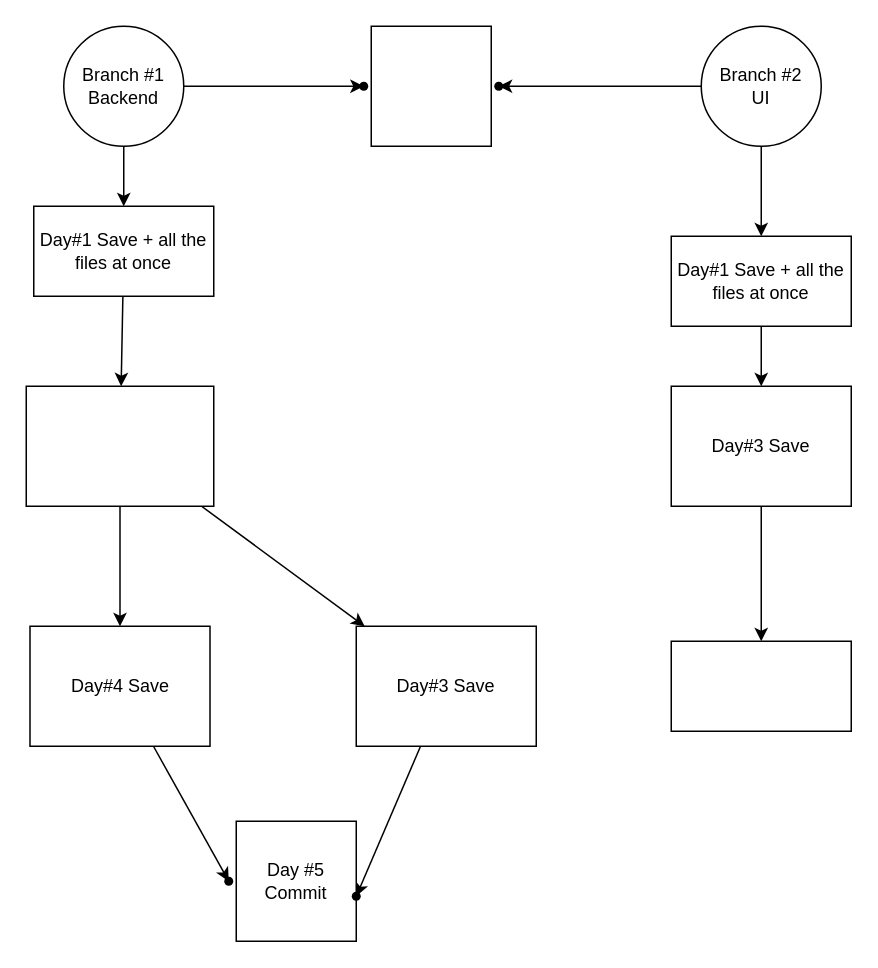
This 878x968 diagram has some shape labels left out. The centre of each missing label's shape, as x and y in pixels:
Day#2 Save only the changed files: [119,445]
Final Branch: [430,85]
Minor UI Changes: [760,685]
